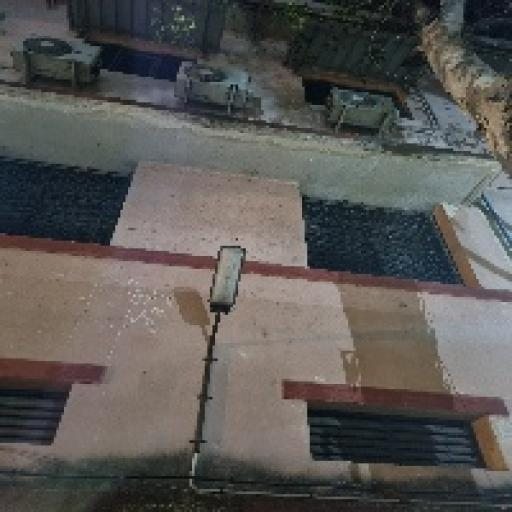Not Working: (188, 232, 259, 324)
